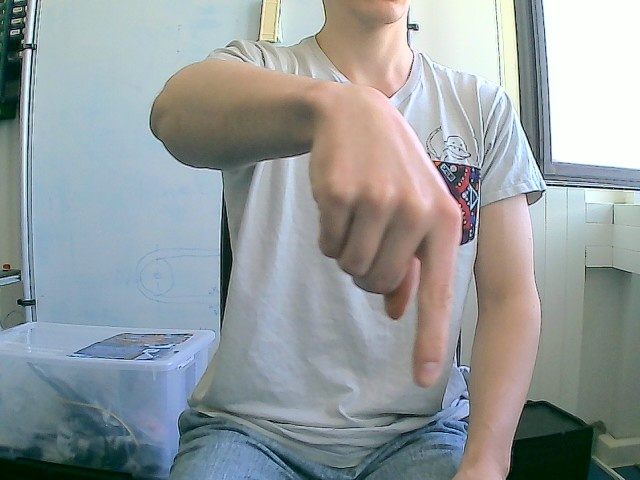down: (306, 81, 464, 389)
